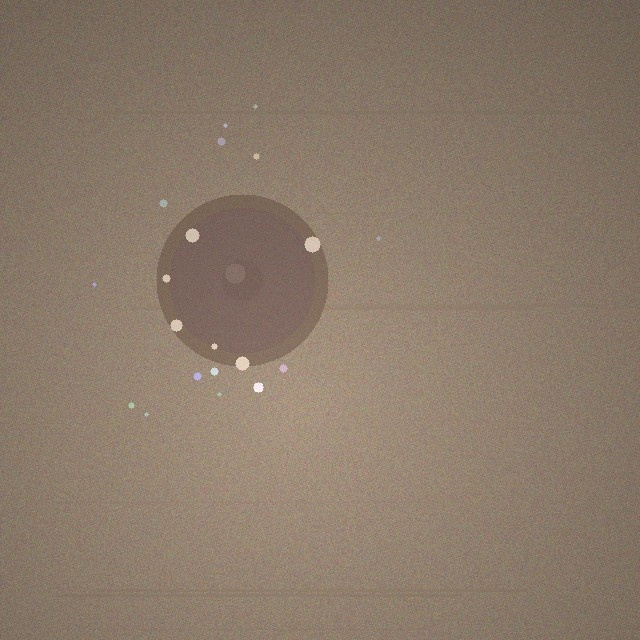overburn: (156, 194, 328, 366)
